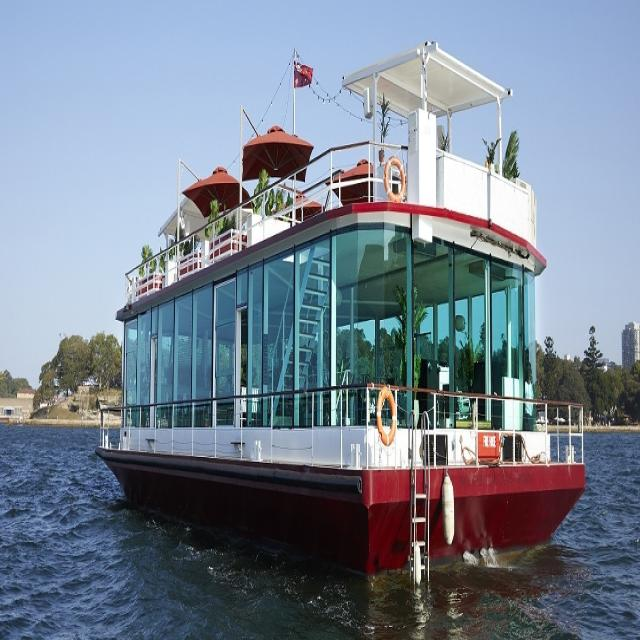houseboat: (89, 70, 586, 560)
